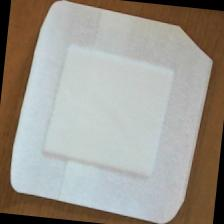Cut: (1, 1, 223, 224)
